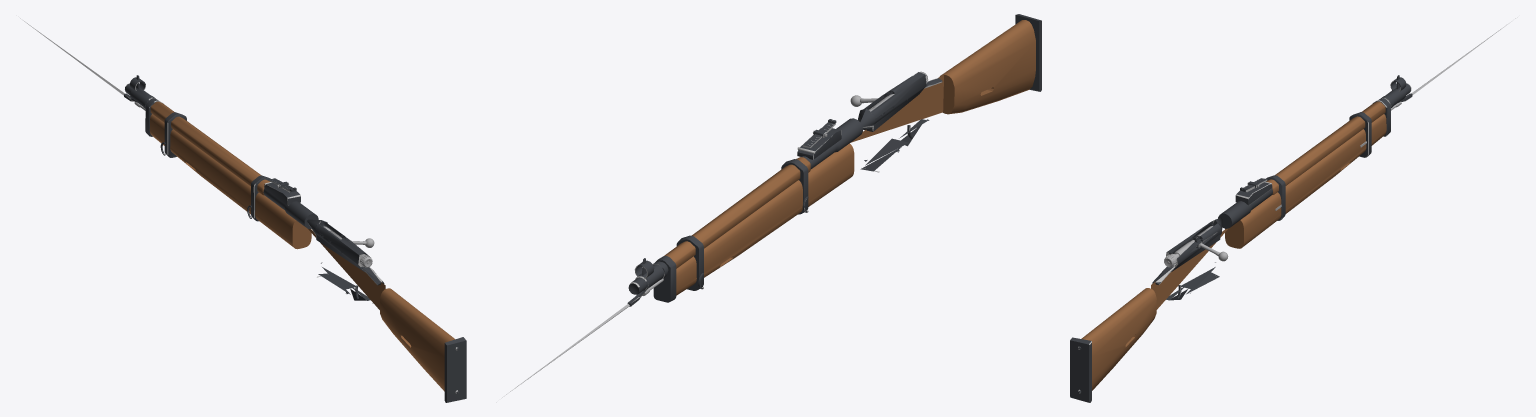
The model's file is mosin_lod1.glb.
3 views of the same model, side by side, from view 1: azimuth 30°, elevation 25°; view 2: azimuth 150°, elevation 25°; view 3: azimuth 330°, elevation 25° (orthographic). The views are drawn at different scales.
Parts seen in each view (by area): view 1: Wood, Blued, Steel, Worn; view 2: Wood, Blued, Steel; view 3: Wood, Blued, Steel, Worn.
Boxes of the visible parts, box(x1,y1,x2,y2) form: Wood: box(149, 101, 454, 391); Blued: box(124, 75, 466, 402); Steel: box(20, 18, 374, 277); Worn: box(125, 82, 466, 393); Wood: box(664, 20, 1035, 295); Blued: box(627, 14, 1041, 306); Steel: box(501, 71, 928, 398); Wood: box(1081, 101, 1386, 390); Blued: box(1070, 75, 1412, 402); Steel: box(1164, 17, 1517, 276); Worn: box(1078, 81, 1411, 402).
Size of the model in its own units: 0.0952 by 0.1947 by 1.67.
